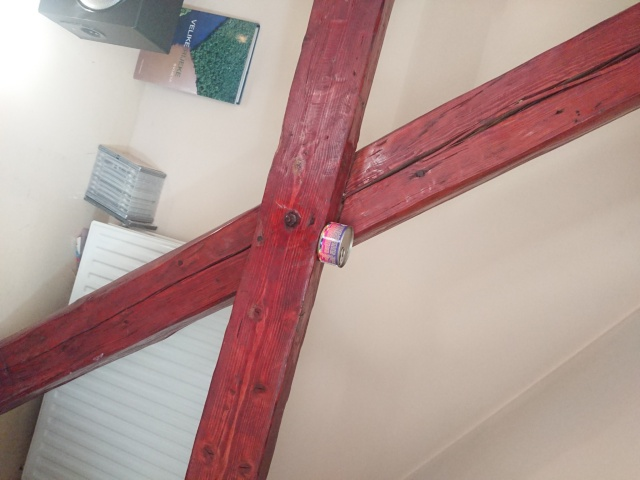Giana Tuna Salad Mexico 185g: (315, 220, 356, 269)
